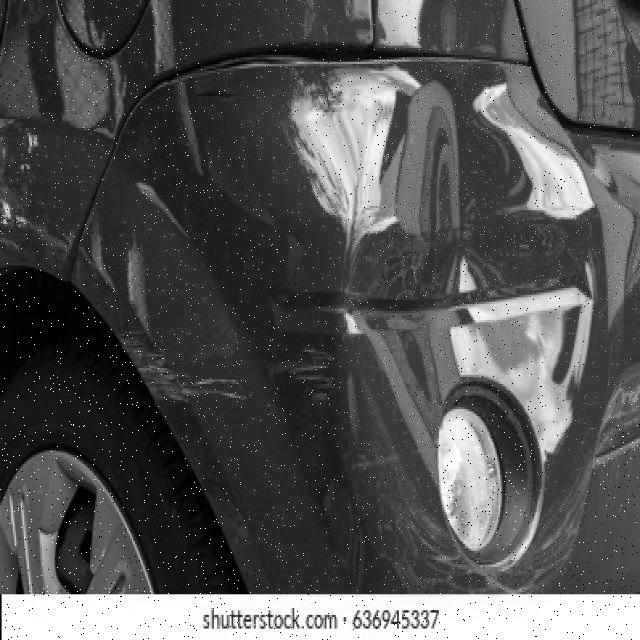rear-bumper-dent: (104, 88, 609, 593)
